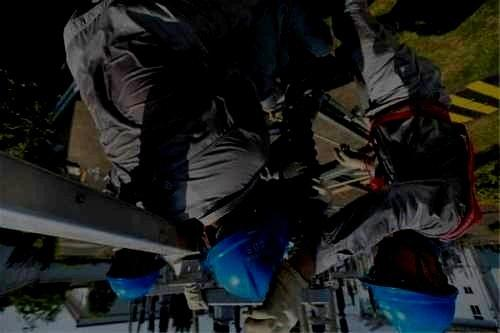helmet: (361, 229, 460, 333), (200, 218, 291, 302), (105, 248, 162, 301)
